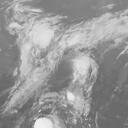cyclone: (72, 52, 97, 85)
